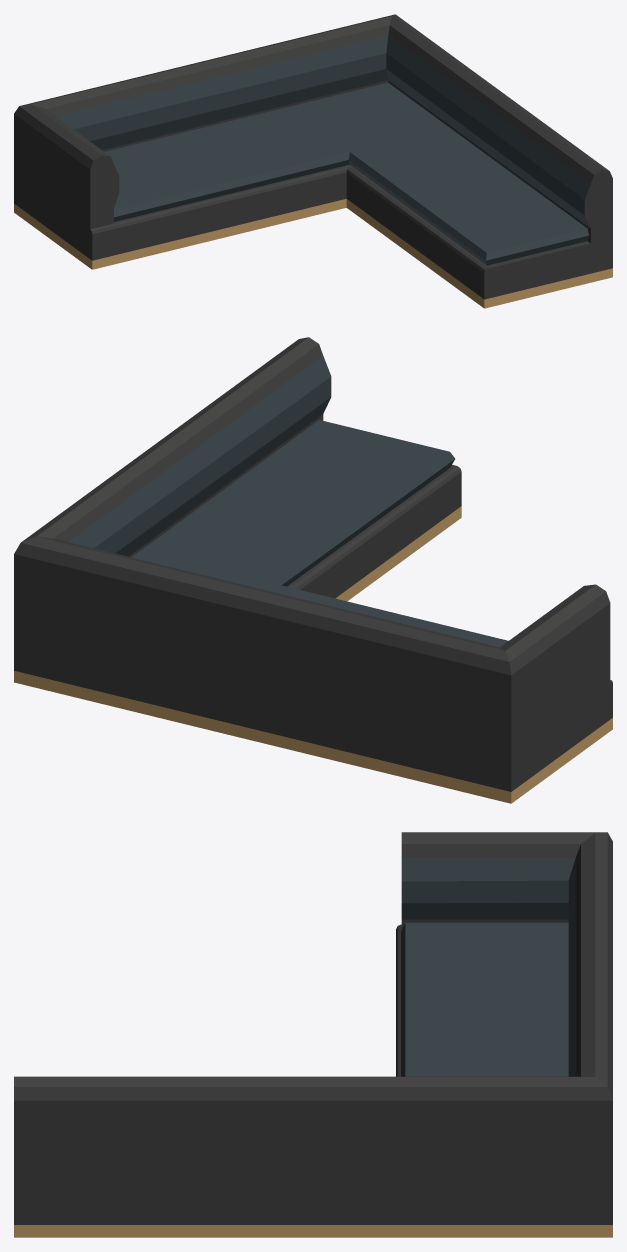
File: CouchV2.fbx
3 views of the same model, one above another, from view 1: azimuth 30°, elevation 25°; view 2: azimuth 150°, elevation 25°; view 3: azimuth 270°, elevation 25° (orthographic). The views are drawn at different scales.
Parts seen in each view (by area): view 1: CouchV2; view 2: CouchV2; view 3: CouchV2.
Boxes of the visible parts, x1=… form: CouchV2: x1=14, y1=14, x2=612, y2=308; CouchV2: x1=14, y1=337, x2=612, y2=803; CouchV2: x1=14, y1=832, x2=612, y2=1237.
Bounding box in the file's own units: 270 × 74.27 × 264.
